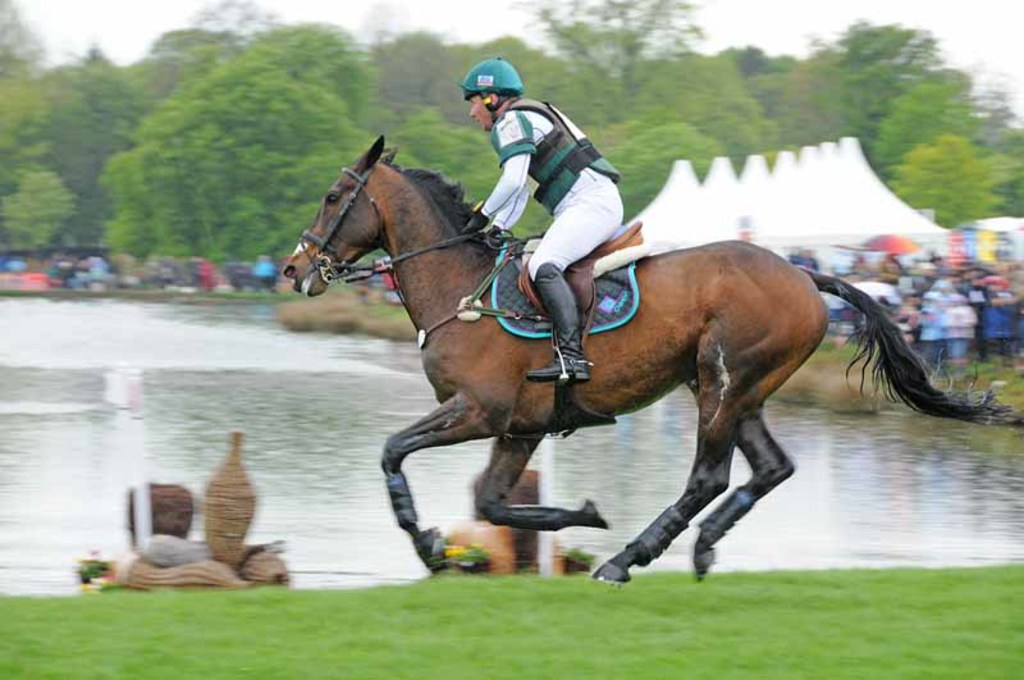horse: (283, 133, 1023, 583)
